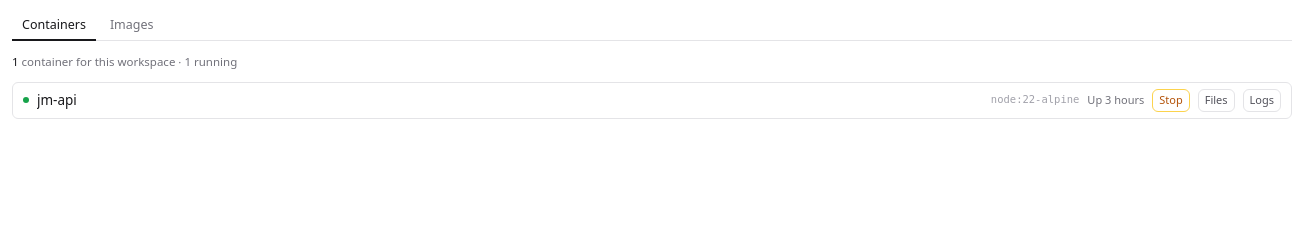
Test: logs are a read, taken on request › fetches nothing until the control is pressed, then exactly one
This screenshot has width=1304, height=243.
Click the button with test id "docker-logs-jm-api" at point(1262, 100), box [1242,89,1281,112]
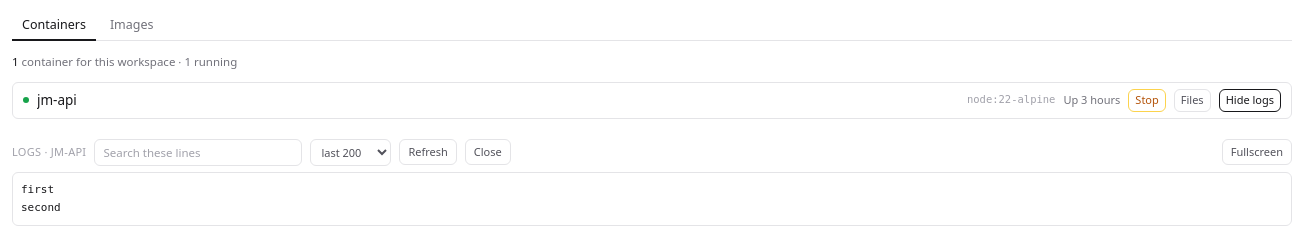
Expected: the element with test id "docker-logs-pane" shows "second", [21,201,61,214]
